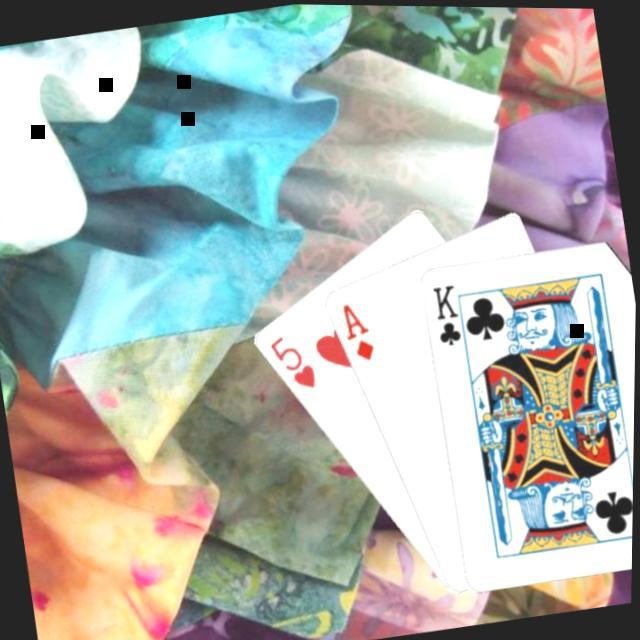5H: (264, 328, 320, 398)
AD: (336, 298, 378, 367)
KC: (426, 280, 472, 357), (622, 474, 634, 552)
